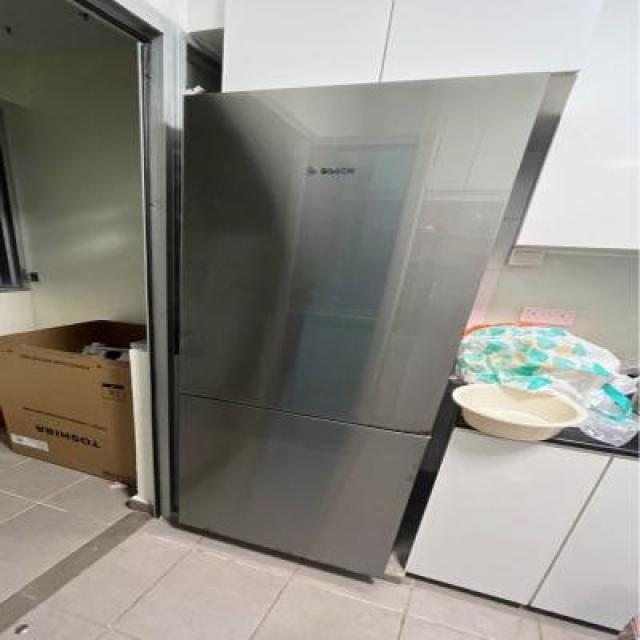refrigerator: (173, 69, 558, 549)
